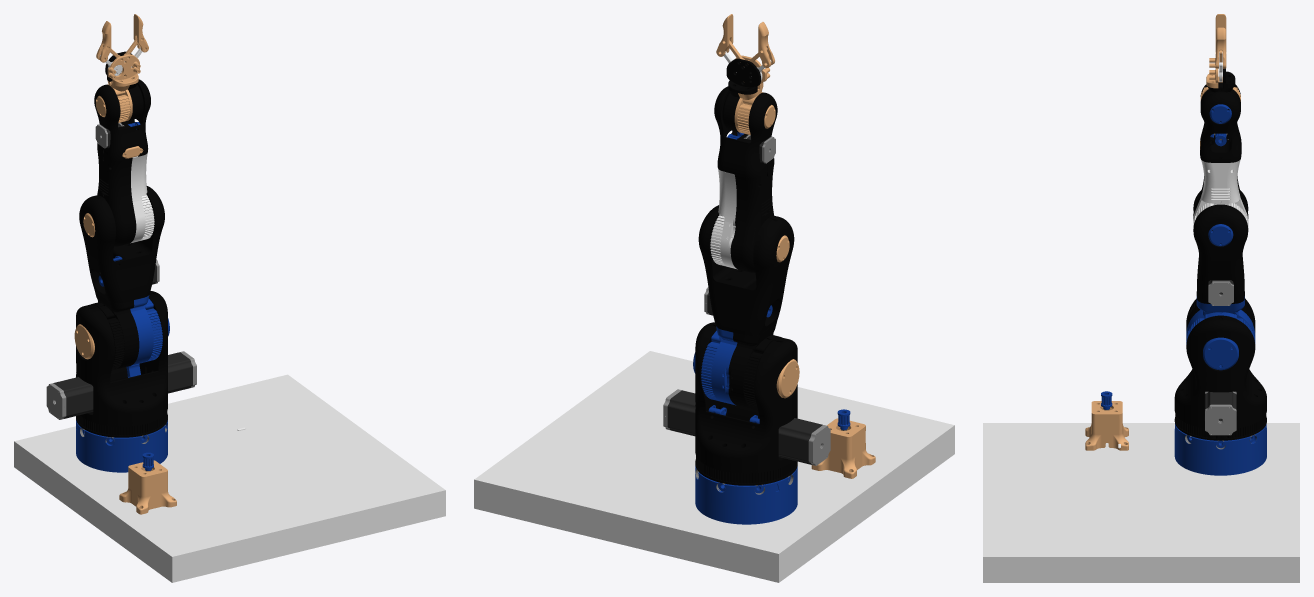
The model's file is BigRobotArmWebCompressed.glb.
3 views of the same model, side by side, from view 1: azimuth 30°, elevation 25°; view 2: azimuth 150°, elevation 25°; view 3: azimuth 270°, elevation 25° (orthographic). The views are drawn at different scales.
Parts seen in each view (by area): view 1: Plane, 2M1D, 3M1D, 1M2A, 3M2C, 4M1D, 1M3A, 2M2HA, 2M2MA, 3M2CC, 1M1A, Nema 23 - Nema 23 Corp-2.001 (+3 smaller); view 2: Plane, 2M1D, 3M1D, 1M2A, 4M1D, 3M2C, 2M2HA, 1M3A, 2M2MA, 3M2CC, 1M1A, Nema 23 - Nema 23 Corp-2.001 (+5 smaller); view 3: Plane, 2M1D, 3M1D, 1M2A, 4M1D, 3M2CC, 1M3A, 1M1A, 2M2MA, Tapa 2M1C, Nema 23 - Nema 23 Arrière-1, Nema 17 Arrière-1.003 (+3 smaller).
Part boxes in pixels (x1,y1,x2,y2): Plane: [14, 374, 445, 582]; 2M1D: [76, 291, 167, 424]; 3M1D: [79, 186, 164, 303]; 1M2A: [76, 420, 167, 472]; 3M2C: [97, 151, 136, 246]; 4M1D: [94, 79, 150, 160]; 1M3A: [119, 460, 176, 514]; 2M2HA: [91, 290, 139, 370]; 2M2MA: [130, 295, 162, 365]; 3M2CC: [130, 153, 154, 243]; 1M1A: [76, 407, 167, 437]; Nema 23 - Nema 23 Corp-2.001: [53, 377, 93, 418]; Plane: [474, 351, 954, 582]; 2M1D: [695, 322, 797, 471]; 3M1D: [698, 205, 794, 335]; 1M2A: [695, 466, 797, 524]; 4M1D: [714, 86, 777, 177]; 3M2C: [730, 166, 774, 272]; 2M2HA: [728, 322, 781, 410]; 1M3A: [811, 418, 875, 478]; 2M2MA: [701, 326, 737, 405]; 3M2CC: [710, 168, 737, 269]; 1M1A: [695, 451, 797, 485]; Nema 23 - Nema 23 Corp-2.001: [778, 418, 822, 464]; Plane: [983, 423, 1299, 582]; 2M1D: [1174, 298, 1266, 426]; 3M1D: [1193, 190, 1248, 303]; 1M2A: [1174, 424, 1266, 475]; 4M1D: [1200, 84, 1241, 162]; 3M2CC: [1193, 160, 1248, 228]; 1M3A: [1085, 401, 1128, 450]; 1M1A: [1174, 409, 1266, 440]; 2M2MA: [1186, 296, 1255, 344]; Tapa 2M1C: [1203, 337, 1238, 370]; Nema 23 - Nema 23 Arrière-1: [1205, 404, 1236, 435]; Nema 17 Arrière-1.003: [1208, 281, 1233, 305].
Size of the model in its own units: 0.55 by 0.885 by 0.55.
